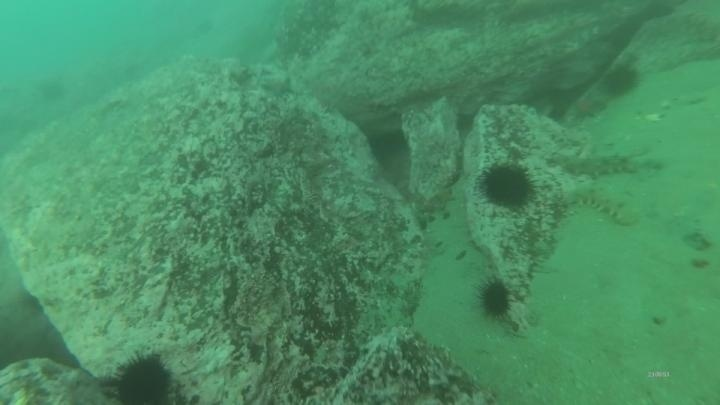echinus: (109, 350, 177, 405), (478, 160, 538, 211), (475, 276, 514, 321), (601, 63, 641, 99), (36, 76, 68, 105)
holothurian: (563, 182, 641, 228), (553, 148, 643, 181)
starfish: (568, 91, 606, 123), (259, 73, 296, 99)
